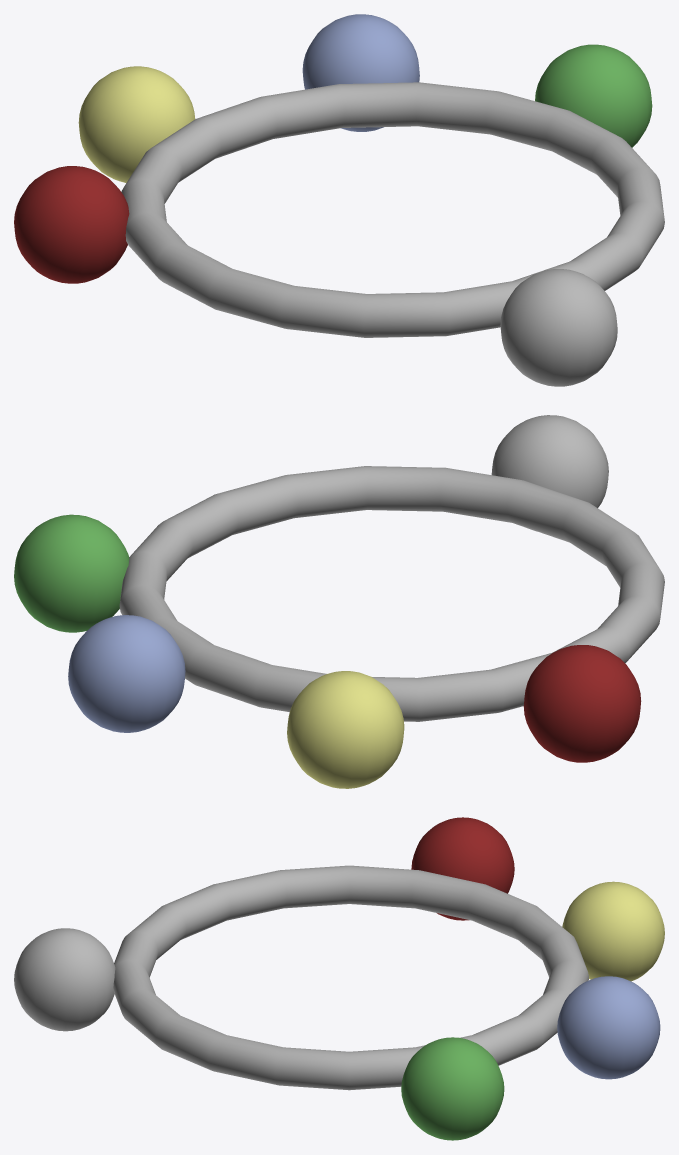
Rendered from necklace-key.fbx.
The picture shows the model from 3 angles, top to bottom: view 1: azimuth 30°, elevation 25°; view 2: azimuth 150°, elevation 25°; view 3: azimuth 270°, elevation 25°; orthographic projection. The views are drawn at different scales.
Parts seen in each view (by area): view 1: pTorus10, pasted__pSphere1 (×4), pSphere1; view 2: pasted__pSphere1 (×4), pTorus10, pSphere1; view 3: pTorus10, pasted__pSphere1 (×4), pSphere1.
Boxes of the visible parts, <box> form: pTorus10: <box>121,82,664,337</box>; pasted__pSphere1 (×4): <box>14,14,652,283</box>; pSphere1: <box>500,269,617,386</box>; pasted__pSphere1 (×4): <box>14,514,641,788</box>; pTorus10: <box>119,466,664,721</box>; pSphere1: <box>491,415,608,531</box>; pTorus10: <box>113,865,588,1090</box>; pasted__pSphere1 (×4): <box>401,817,664,1140</box>; pSphere1: <box>14,928,115,1031</box>.
Bounding box in the file's own units: 13.43 × 2.22 × 14.01.
